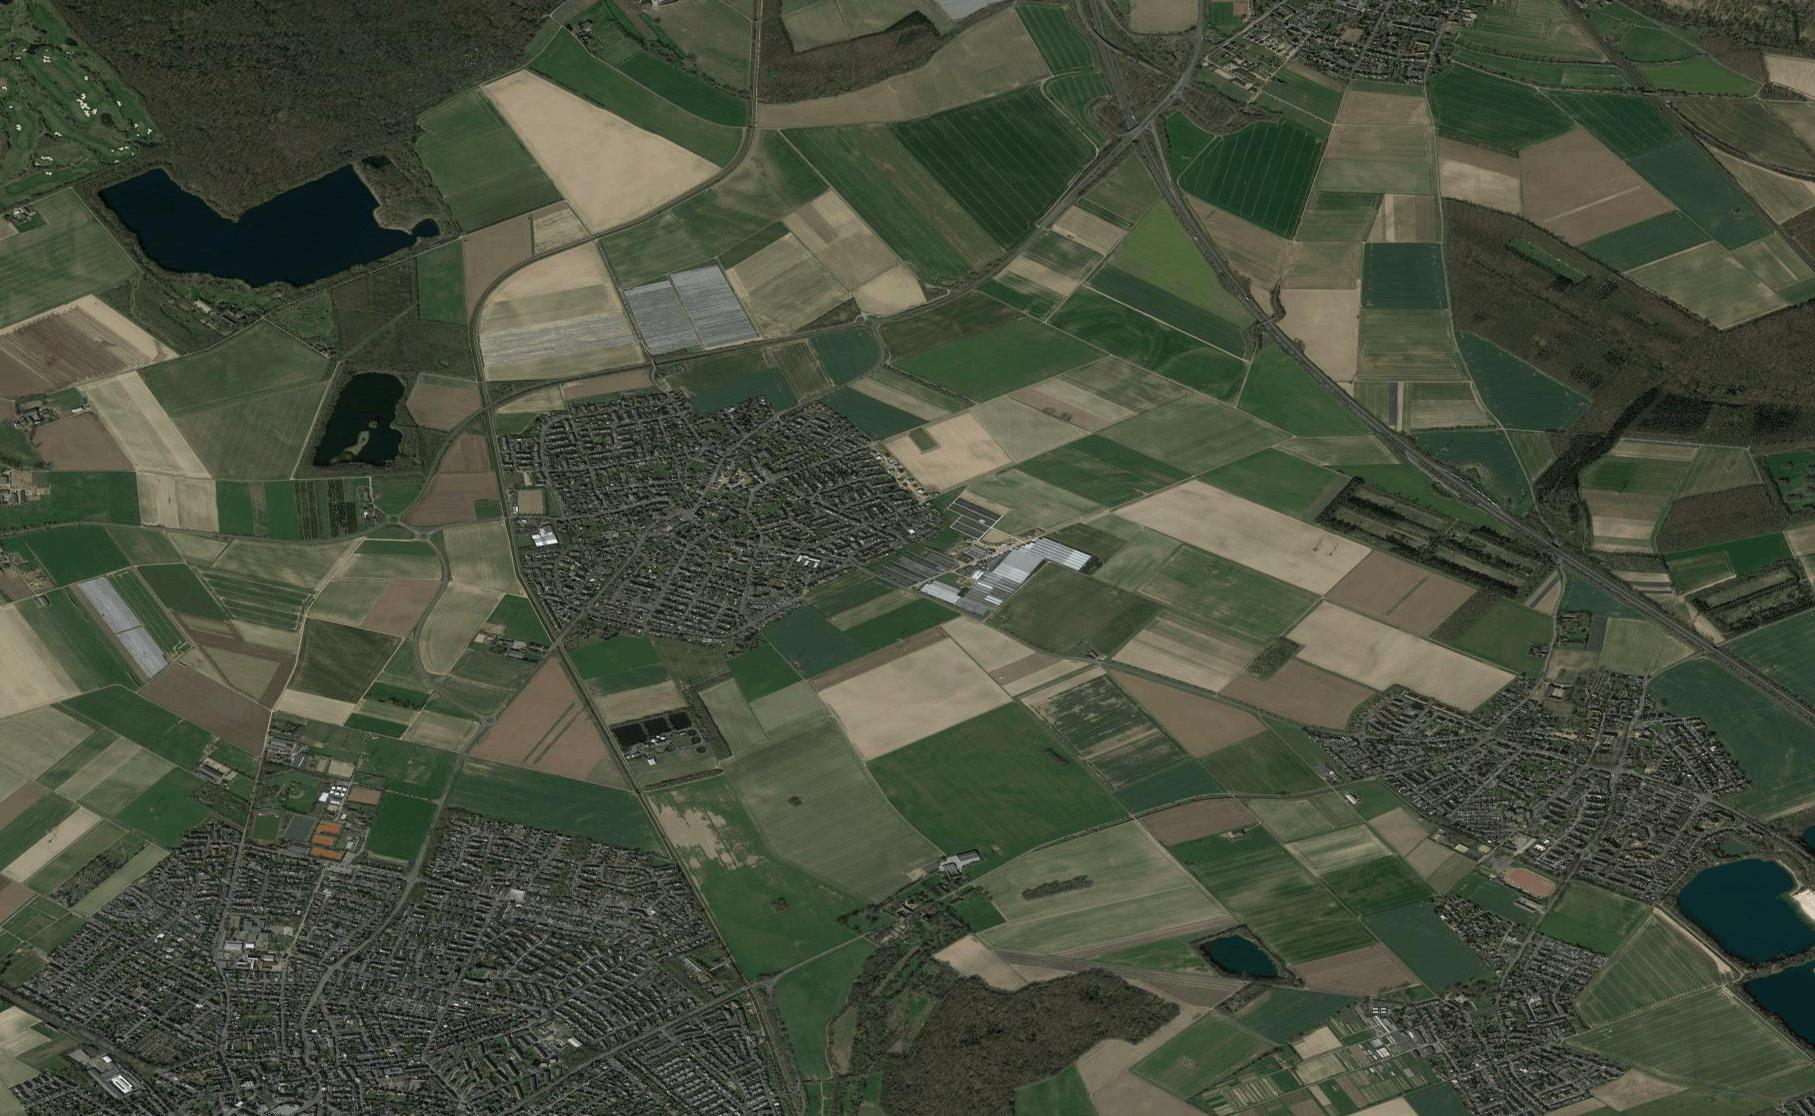industrial: (928, 517, 1083, 630)
motorway: (1565, 557, 1713, 655), (1429, 459, 1563, 563), (1300, 359, 1426, 465), (1206, 257, 1306, 362), (1716, 651, 1815, 754), (1136, 132, 1213, 257), (1076, 1, 1149, 134)
